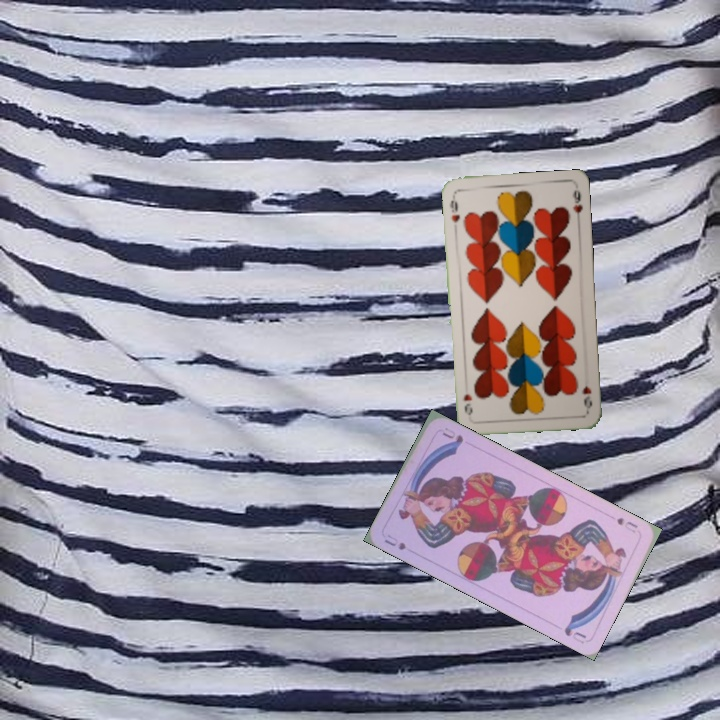H9: (446, 191, 462, 225), (578, 382, 595, 411)
SU: (380, 530, 408, 553), (613, 513, 640, 536)
